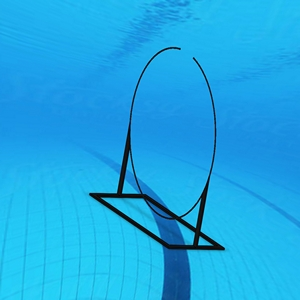circle: (88, 46, 228, 255)
